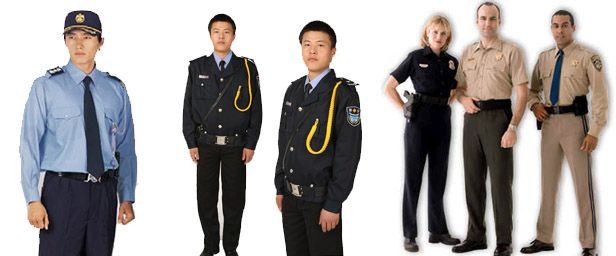gun: (402, 89, 417, 123)
uniform: (16, 47, 148, 244), (533, 37, 606, 240), (459, 32, 525, 232), (403, 33, 453, 248)
